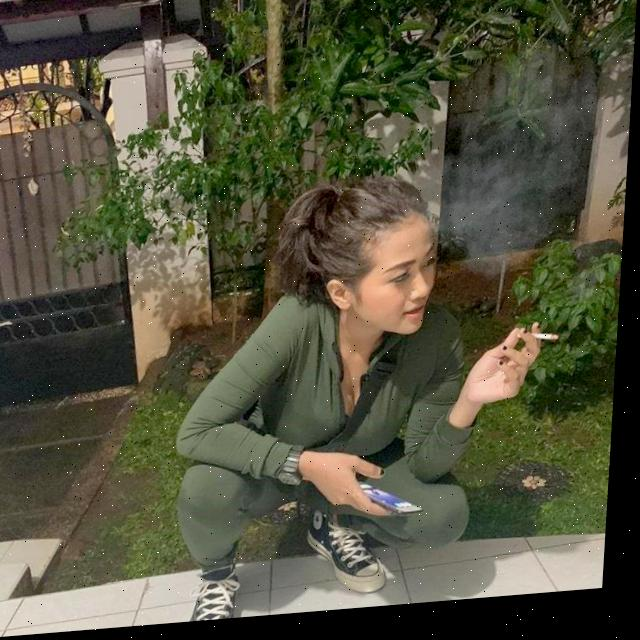cigarette: (535, 340, 565, 351)
